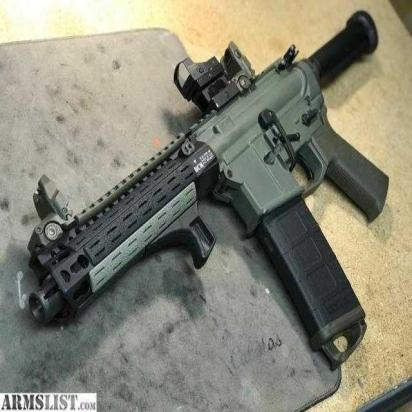Gun: (22, 5, 392, 368)
